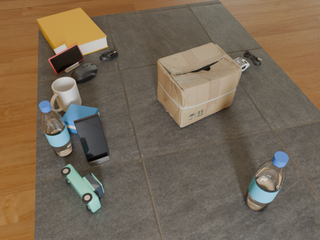book: (37, 8, 108, 55)
bottle: (244, 152, 289, 212), (39, 101, 73, 156)
box: (157, 43, 242, 127), (62, 104, 100, 133)
cup: (50, 77, 81, 112)
mouse: (71, 63, 97, 83), (234, 58, 250, 71)
phone: (74, 114, 109, 162), (48, 44, 84, 74)
toy_car: (61, 164, 104, 212)
